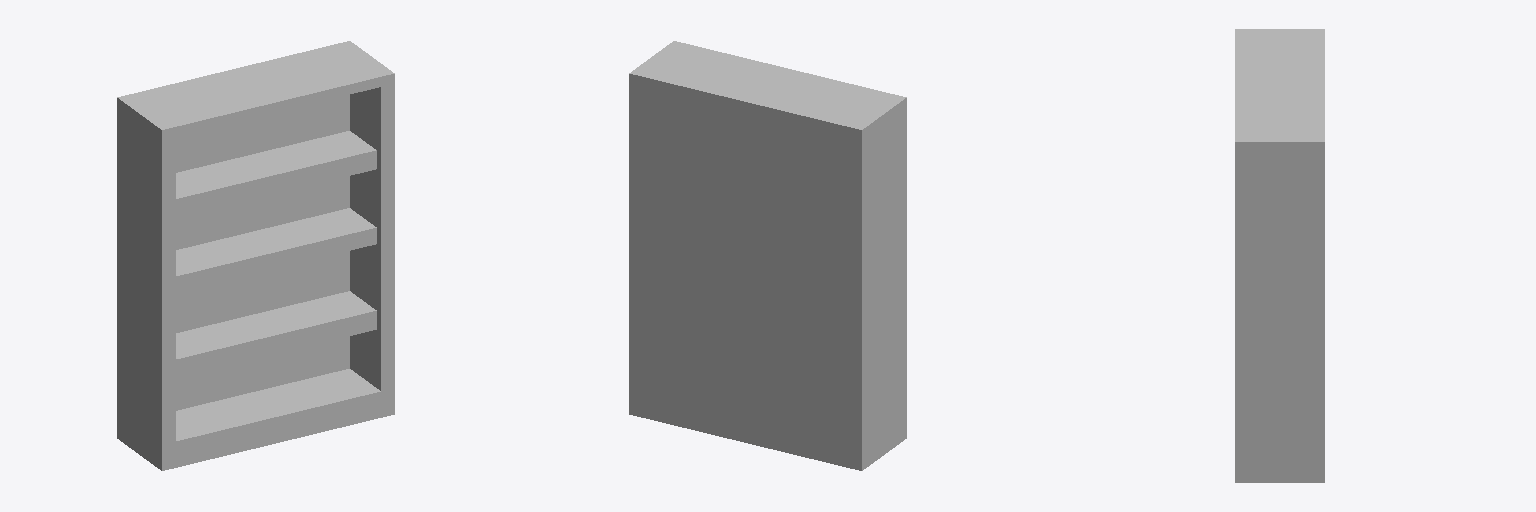
The model's file is Props_Bookshelf_Geo.obj.
3 views of the same model, side by side, from view 1: azimuth 30°, elevation 25°; view 2: azimuth 150°, elevation 25°; view 3: azimuth 270°, elevation 25° (orthographic).
Parts seen in each view (by area): view 1: PropZoo:pCube43; view 2: PropZoo:pCube43; view 3: PropZoo:pCube43.
Part boxes in pixels (bbox=[...]): PropZoo:pCube43: bbox=[117, 41, 394, 470]; PropZoo:pCube43: bbox=[629, 41, 906, 470]; PropZoo:pCube43: bbox=[1235, 29, 1324, 482].
Bounding box in the file's own units: 1.5 × 2.1 × 0.5.